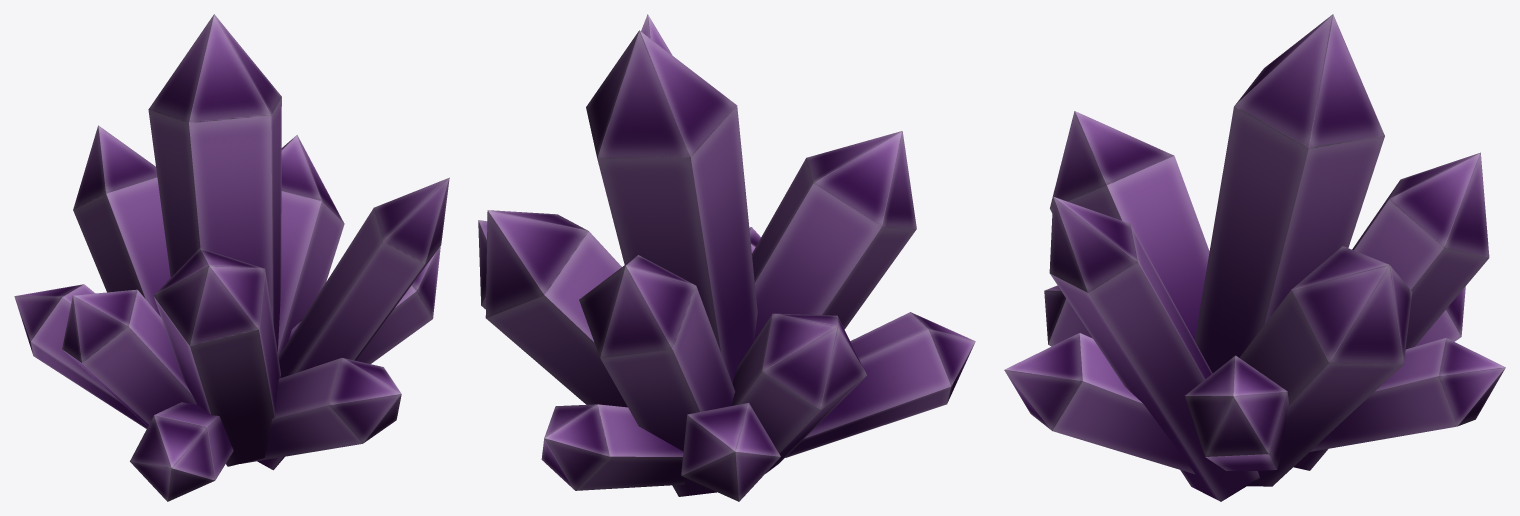
The model's file is crystal.fbx.
3 views of the same model, side by side, from view 1: azimuth 30°, elevation 25°; view 2: azimuth 150°, elevation 25°; view 3: azimuth 270°, elevation 25° (orthographic). The views are drawn at different scales.
Visible parts, largest first — view 1: polySurface1; view 2: polySurface1; view 3: polySurface1.
Part boxes in pixels (x1=…): polySurface1: x1=14, y1=14, x2=449, y2=501; polySurface1: x1=478, y1=14, x2=975, y2=501; polySurface1: x1=1004, y1=14, x2=1505, y2=501.
Bounding box in the file's own units: 6.23 × 6.86 × 6.49.
